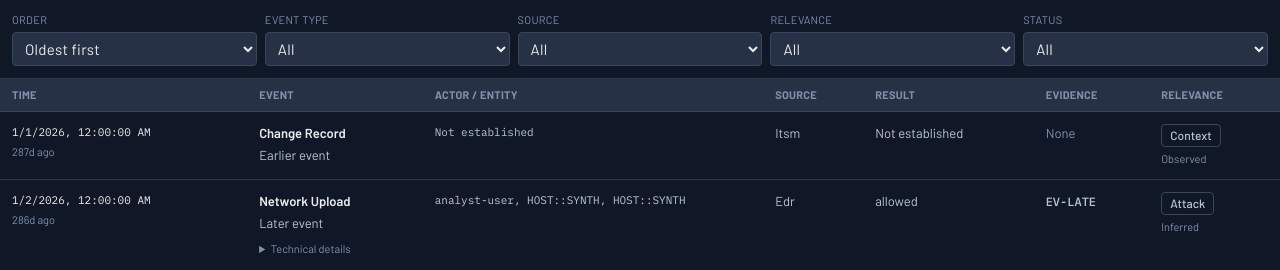
Test case: TimelineTable › renders an honest filtered empty state
Select "Inferred" in the dropdown named "Filter by status" at point(1146, 49), box left=1023, top=32, right=1268, bottom=66
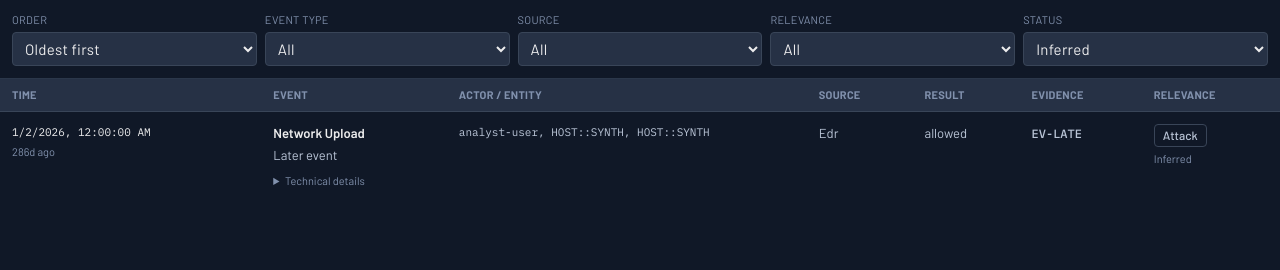
Select "Context" in the dropdown named "Filter by relevance" at point(893, 49), box left=770, top=32, right=1015, bottom=66
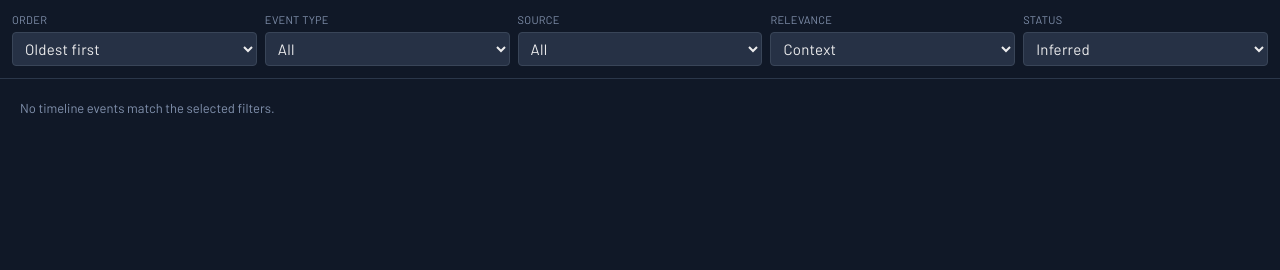
Expected: the text "No timeline events match the selected filters." is shown, left=20, top=100, right=274, bottom=116
